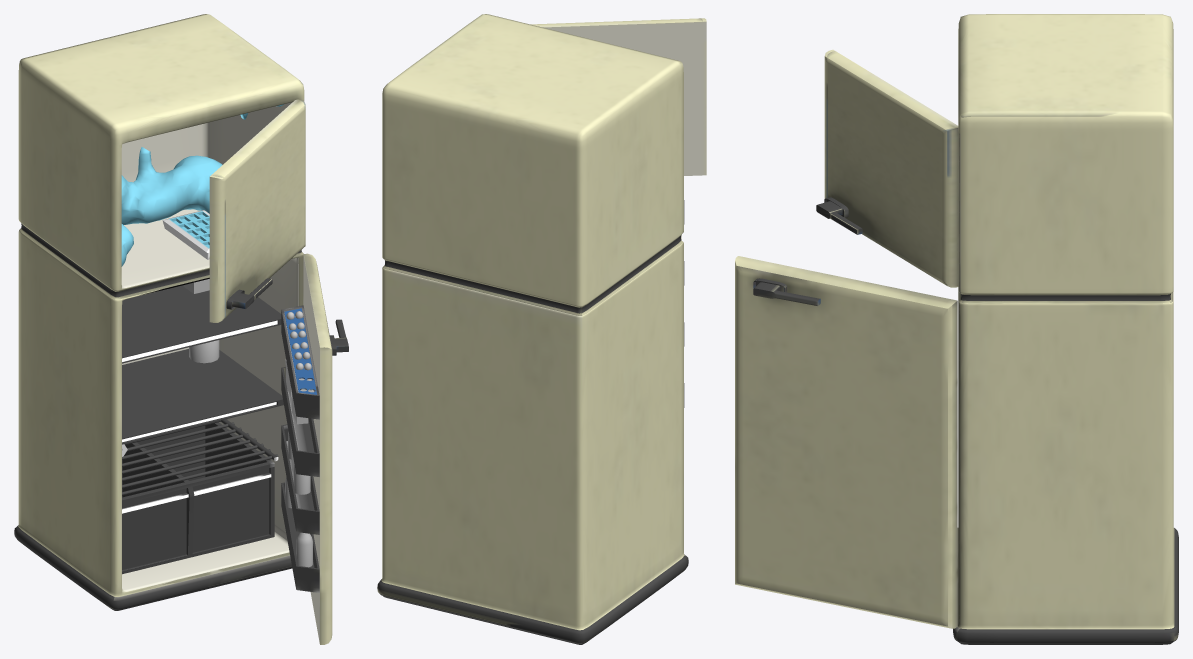
The picture shows the model from 3 angles, left to right: view 1: azimuth 30°, elevation 25°; view 2: azimuth 150°, elevation 25°; view 3: azimuth 270°, elevation 25°; orthographic projection. The views are drawn at different scales.
Parts seen in each view (by area): view 1: Cube.003, Cube.002, Cube.005, Cube.004, Mball.014, Cube.014, Sphere.009, Cylinder.005, Cylinder.004; view 2: Cube.003, Cube.005; view 3: Cube.003, Cube.004, Cube.005.
Boxes of the visible parts, x1,y1,x2,y2 form: Cube.003: [14, 14, 304, 610]; Cube.002: [122, 285, 283, 574]; Cube.005: [209, 99, 305, 322]; Cube.004: [281, 253, 348, 644]; Mball.014: [121, 104, 283, 266]; Cube.014: [162, 210, 209, 259]; Sphere.009: [286, 311, 311, 370]; Cylinder.005: [189, 340, 219, 363]; Cylinder.004: [296, 532, 312, 567]; Cube.003: [377, 14, 688, 644]; Cube.005: [530, 18, 706, 175]; Cube.003: [953, 14, 1178, 644]; Cube.004: [735, 256, 957, 628]; Cube.005: [816, 49, 958, 287].
Size of the model in its own units: 175 by 403 by 305.
